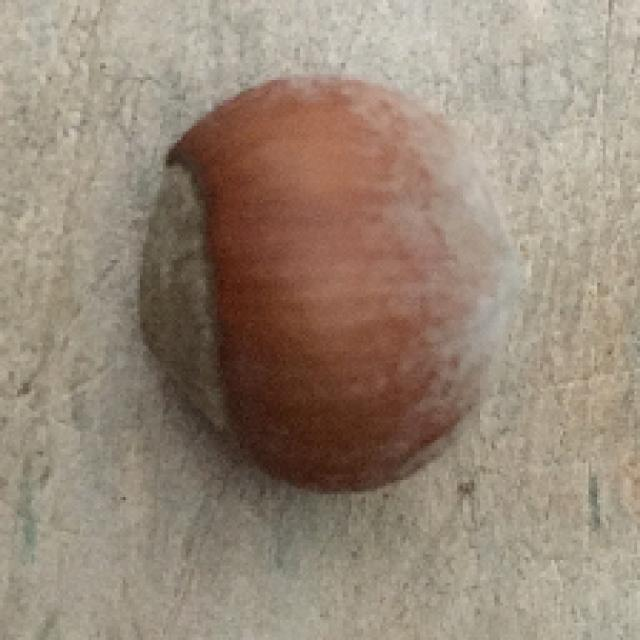QualityHazelnut: (134, 74, 527, 497)
